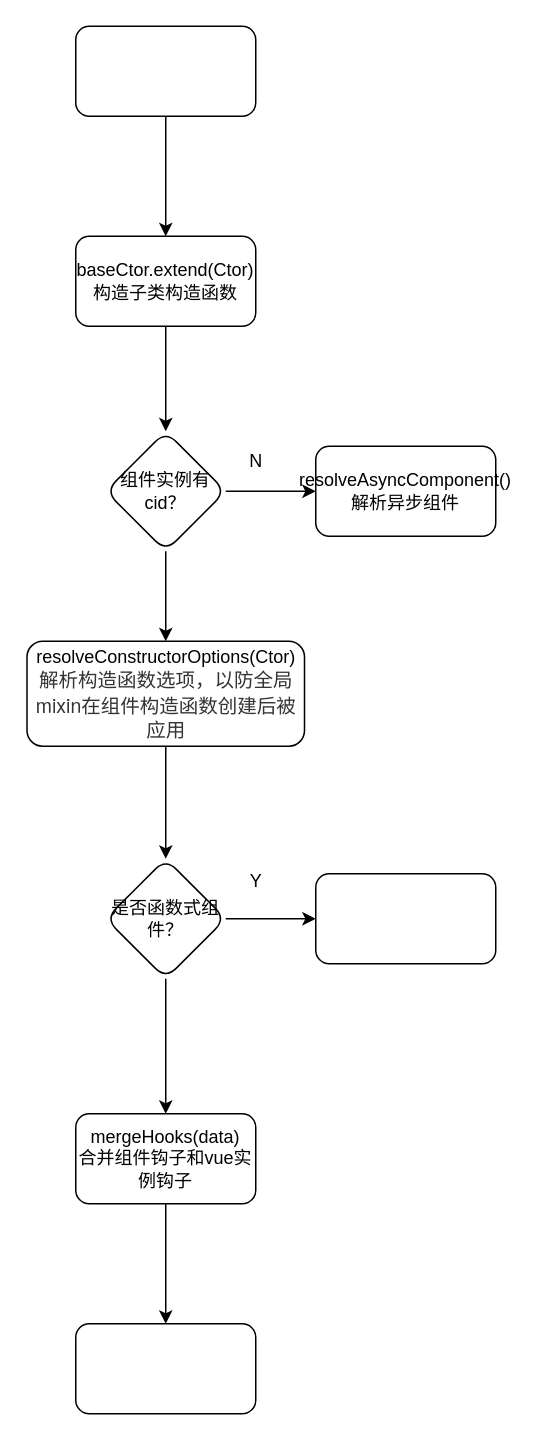
Some shapes in this 551 by 1440 pixel diagram are drawn without their labels. Here are the shapes that lost their labels. From the top down, the box of each, then its label:
(74, 25, 256, 116): createComponent() 创建一个组件节点，返回Vnode节点
(314, 872, 496, 964): createFunctionalComponent() 创建函数式组件
(74, 1322, 256, 1414): new VNode() 返回一个占位符节点
